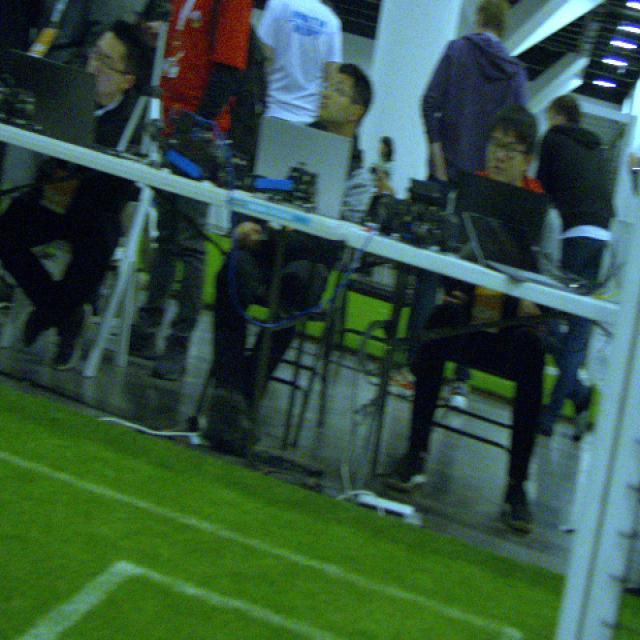goalpost: (553, 182, 639, 638)
